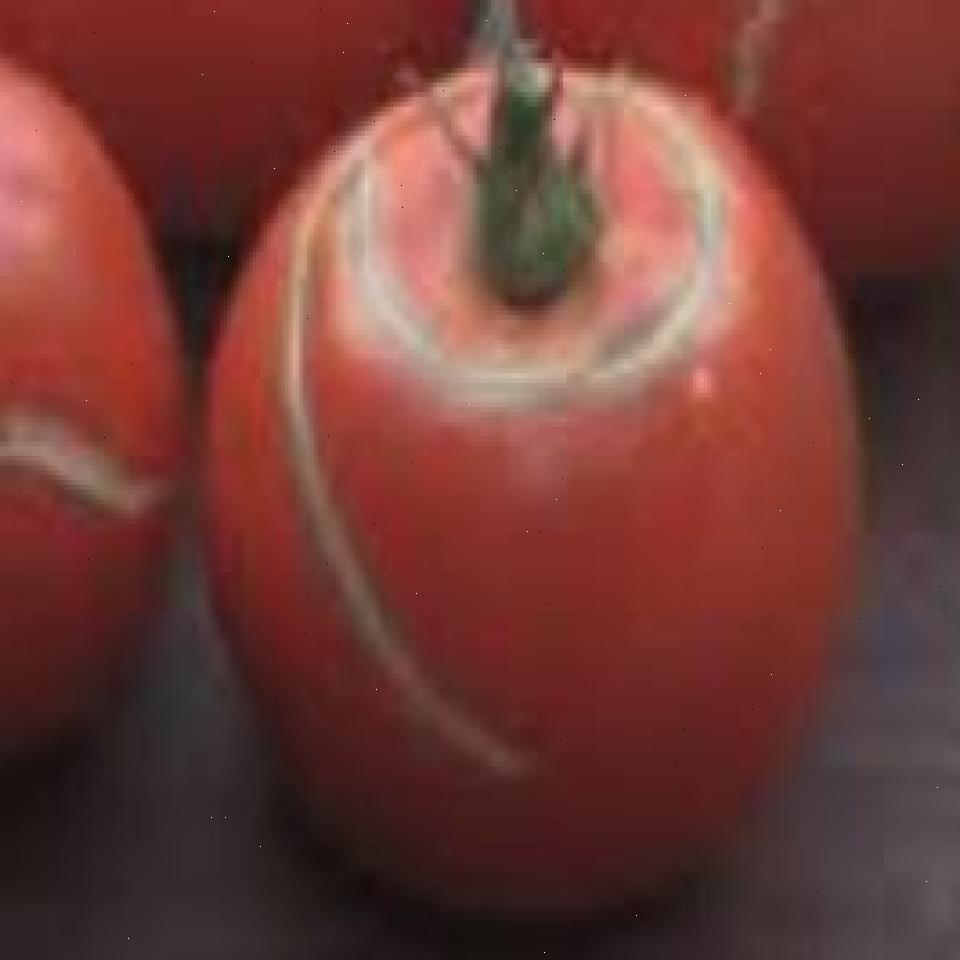Cracking: (256, 133, 528, 805), (332, 41, 740, 422), (0, 330, 170, 538)
